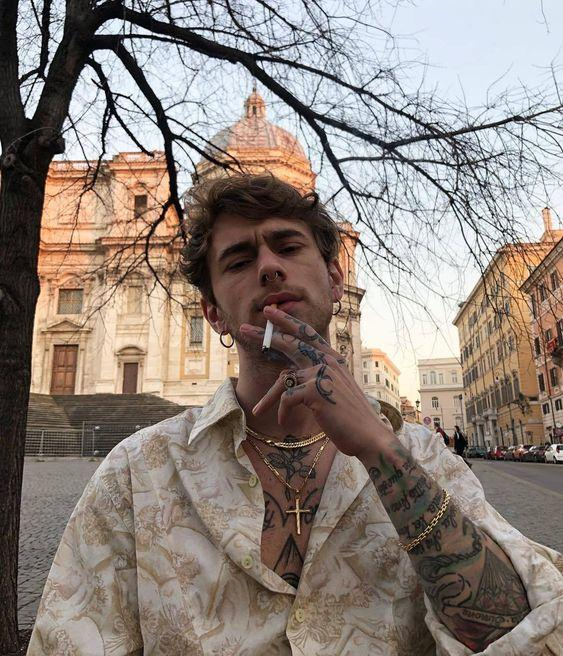cigarette: (261, 303, 277, 354)
